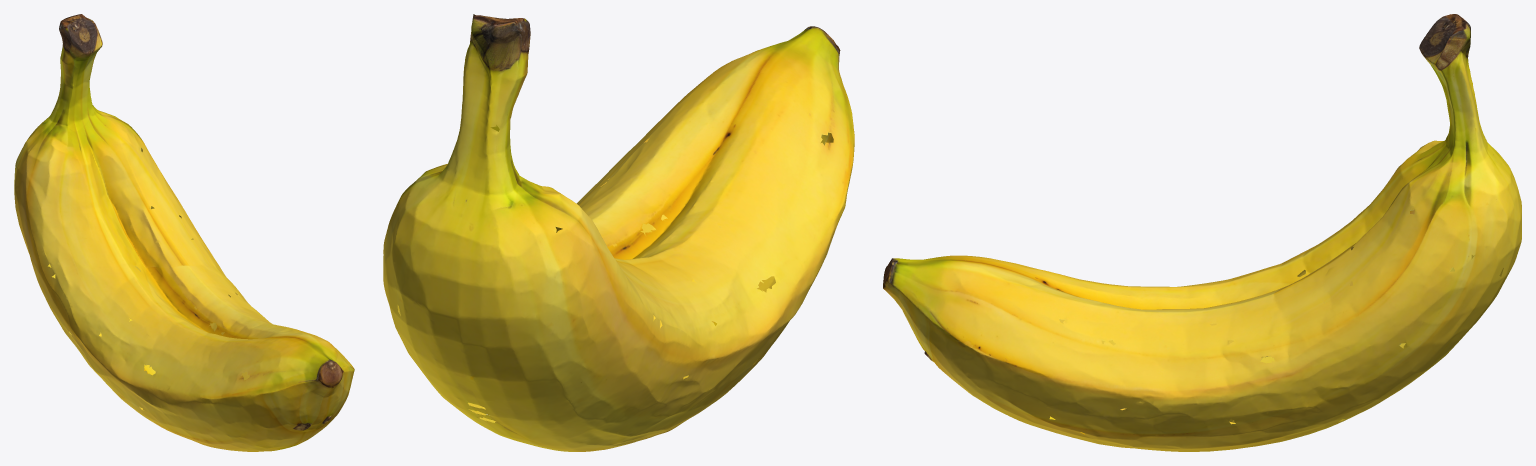
The model's file is banana.glb.
The picture shows the model from 3 angles, left to right: view 1: azimuth 30°, elevation 25°; view 2: azimuth 150°, elevation 25°; view 3: azimuth 270°, elevation 25°; orthographic projection. The views are drawn at different scales.
Bounding box in the file's own units: 0.7276 × 1.42 × 2.
Materials: 1 (1 with a texture image).
